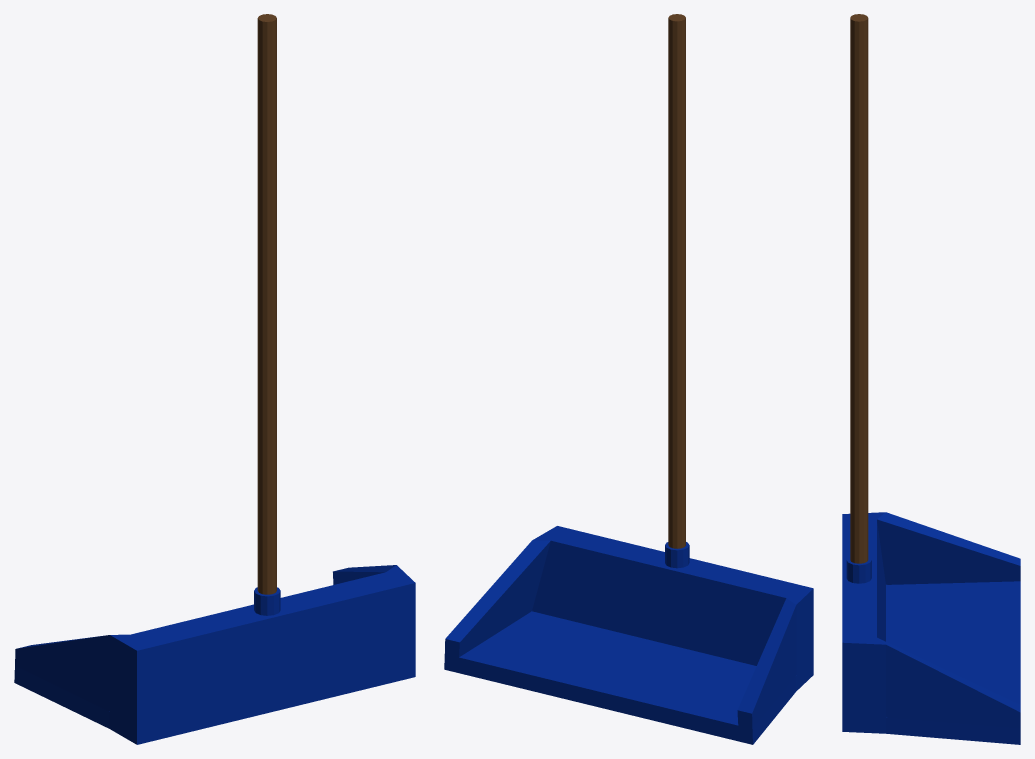
3 views of the same model, side by side, from view 1: azimuth 30°, elevation 25°; view 2: azimuth 150°, elevation 25°; view 3: azimuth 270°, elevation 25° (orthographic). The views are drawn at different scales.
Visible parts, largest first — view 1: CaboPa; view 2: CaboPa; view 3: CaboPa.
Part boxes in pixels (left/top/right/bottom): CaboPa: left=14, top=14, right=415, bottom=744; CaboPa: left=444, top=14, right=813, bottom=744; CaboPa: left=842, top=14, right=1020, bottom=744.
Size of the model in its own units: 199 by 96.78 by 389.
